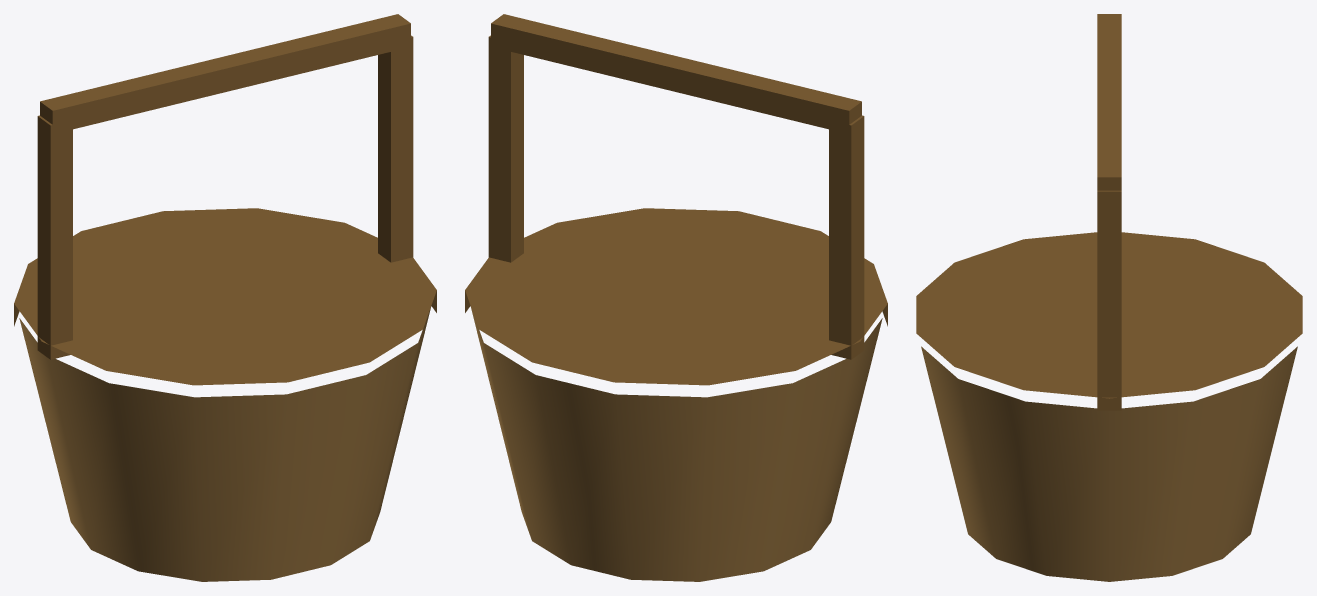
File: basket.glb
3 renders of one model, left to right at view 1: azimuth 30°, elevation 25°; view 2: azimuth 150°, elevation 25°; view 3: azimuth 270°, elevation 25°, orthographic. The views are drawn at different scales.
Visible parts, largest first — view 1: object 1, box (×2); view 2: object 1, box (×2); view 3: object 1, box.
Part boxes in pixels (x1=…): object 1: x1=14, y1=14, x2=436, y2=581; box (×2): x1=37, y1=35, x2=413, y2=359; object 1: x1=465, y1=14, x2=887, y2=581; box (×2): x1=488, y1=35, x2=864, y2=359; object 1: x1=916, y1=14, x2=1302, y2=581; box: x1=1097, y1=190, x2=1121, y2=410.
Bounding box in the file's own units: 0.41 × 0.485 × 0.3997.
